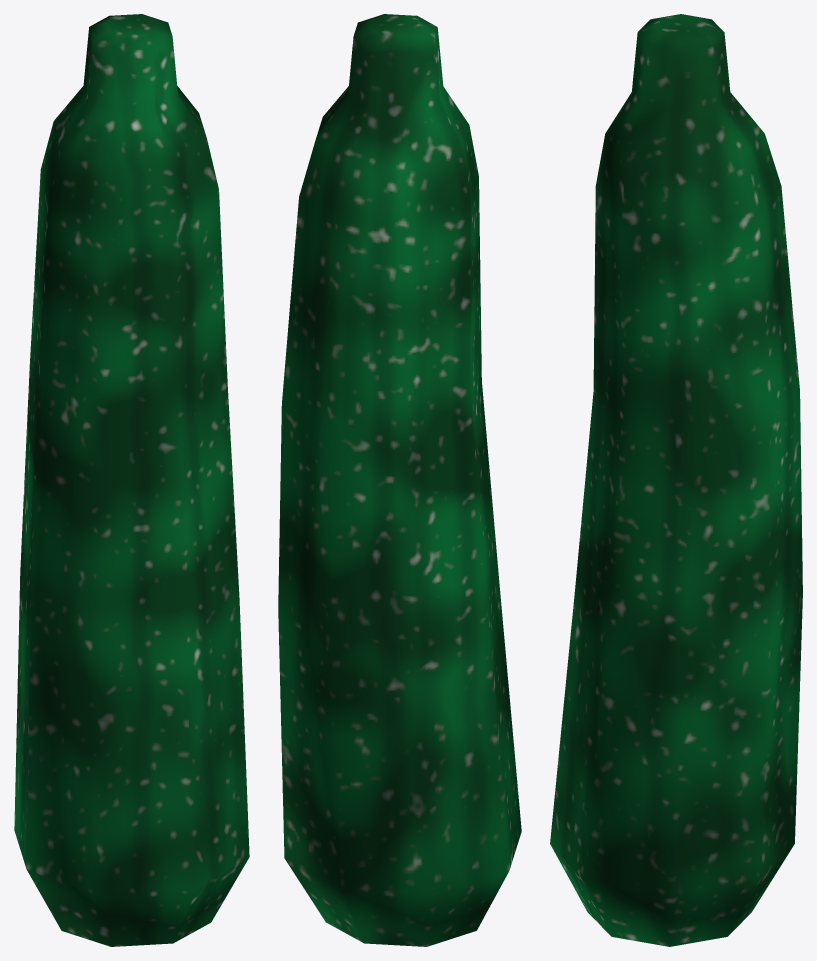
File: ZucchinaBad.fbx
3 views of the same model, side by side, from view 1: azimuth 30°, elevation 25°; view 2: azimuth 150°, elevation 25°; view 3: azimuth 270°, elevation 25° (orthographic).
Parts seen in each view (by area): view 1: Cylinder; view 2: Cylinder; view 3: Cylinder.
Boxes of the visible parts, x1=… form: Cylinder: x1=14, y1=14, x2=249, y2=946; Cylinder: x1=278, y1=14, x2=521, y2=946; Cylinder: x1=550, y1=14, x2=802, y2=946.
Bounding box in the file's own units: 213 × 881 × 220.
